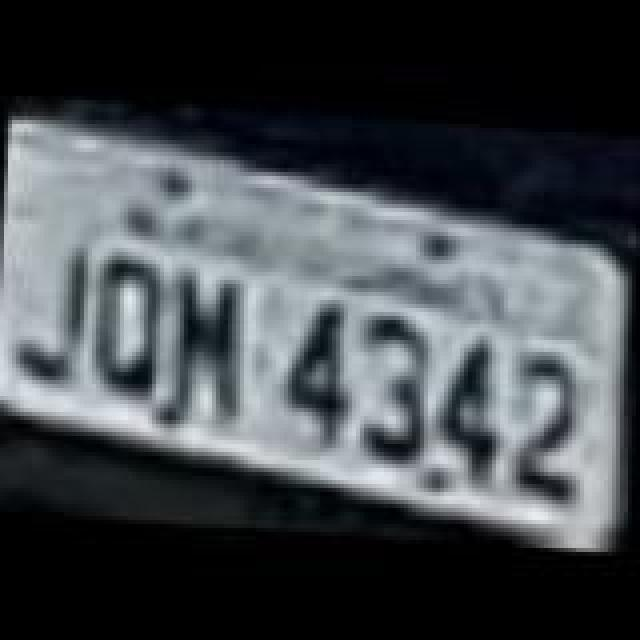2: (506, 344, 594, 508)
3: (356, 308, 440, 468)
4: (428, 330, 512, 498), (280, 292, 364, 452)
J: (12, 242, 96, 382)
N: (164, 268, 256, 424)
Q: (90, 256, 178, 404)
